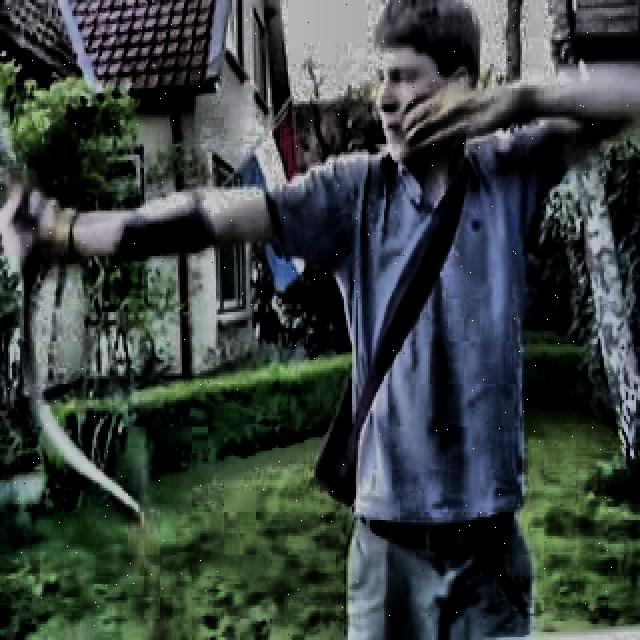P: (6, 8, 630, 632)
